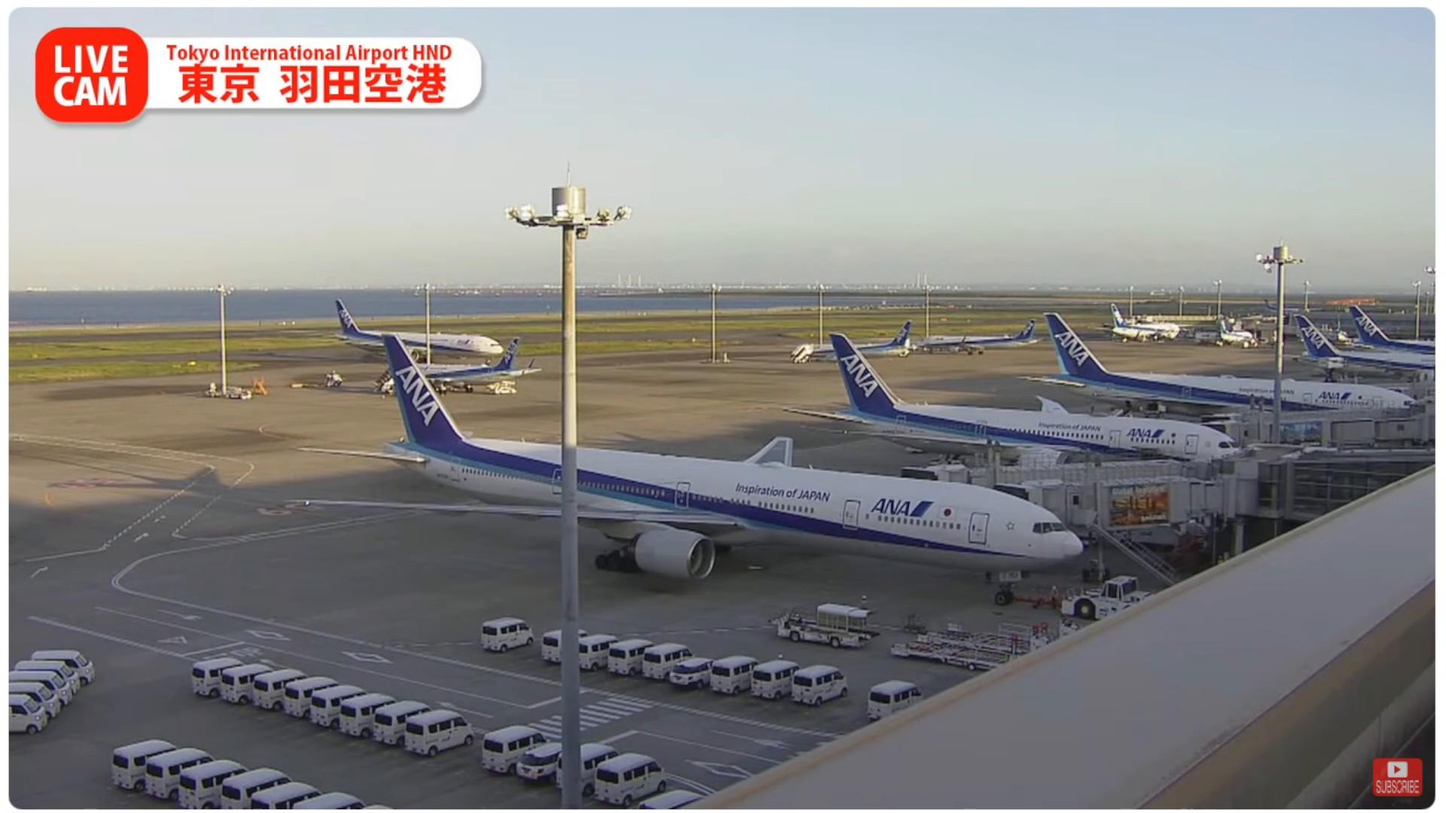APS: (1062, 573, 1156, 619)
Aerobridge: (990, 474, 1217, 523), (903, 458, 1204, 486)
Airplane: (290, 334, 1085, 584)
JCPL: (918, 617, 1080, 654), (891, 641, 1014, 668)
Skyloader: (769, 599, 883, 648)
Window: (1253, 443, 1435, 520)
